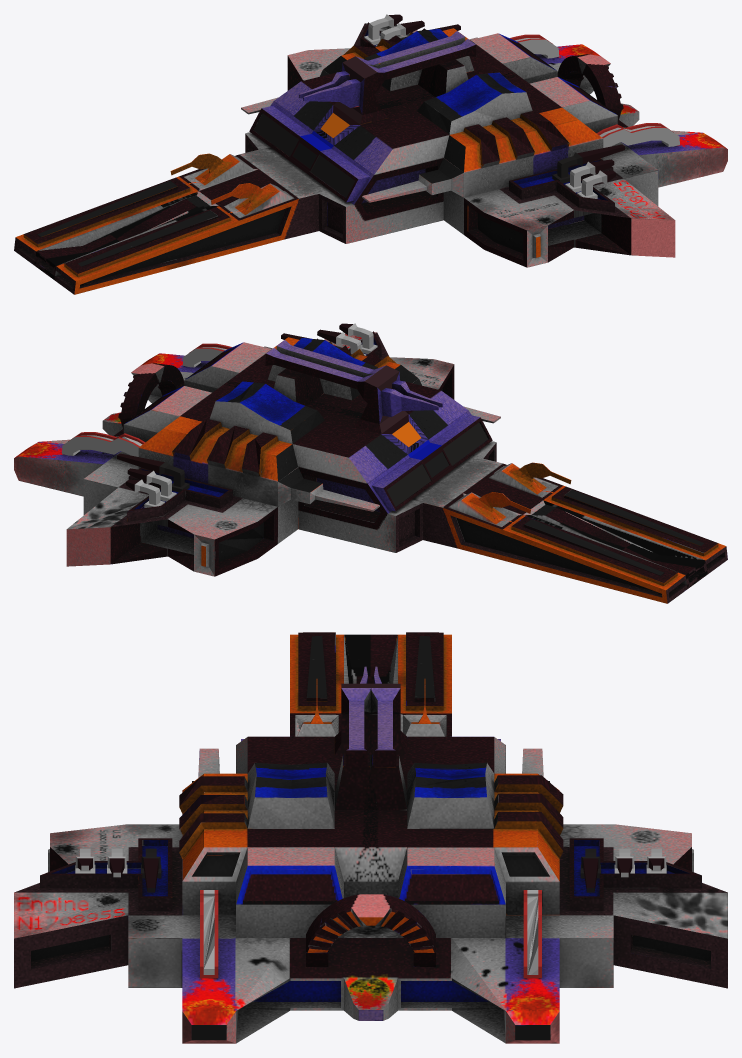
File: MotherShip.obj
3 views of the same model, one above another, from view 1: azimuth 30°, elevation 25°; view 2: azimuth 150°, elevation 25°; view 3: azimuth 270°, elevation 25° (orthographic). The views are drawn at different scales.
Parts seen in each view (by area): view 1: Plane.002; view 2: Plane.002; view 3: Plane.002.
Part boxes in pixels (x1,y1,x2,y2): Plane.002: [14, 14, 727, 294]; Plane.002: [14, 323, 727, 603]; Plane.002: [14, 632, 727, 1043].
Bounding box in the file's own units: 624 × 136 × 467.
17 materials, 7 textured.
